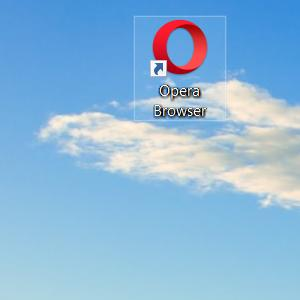opera: (150, 20, 208, 77)
